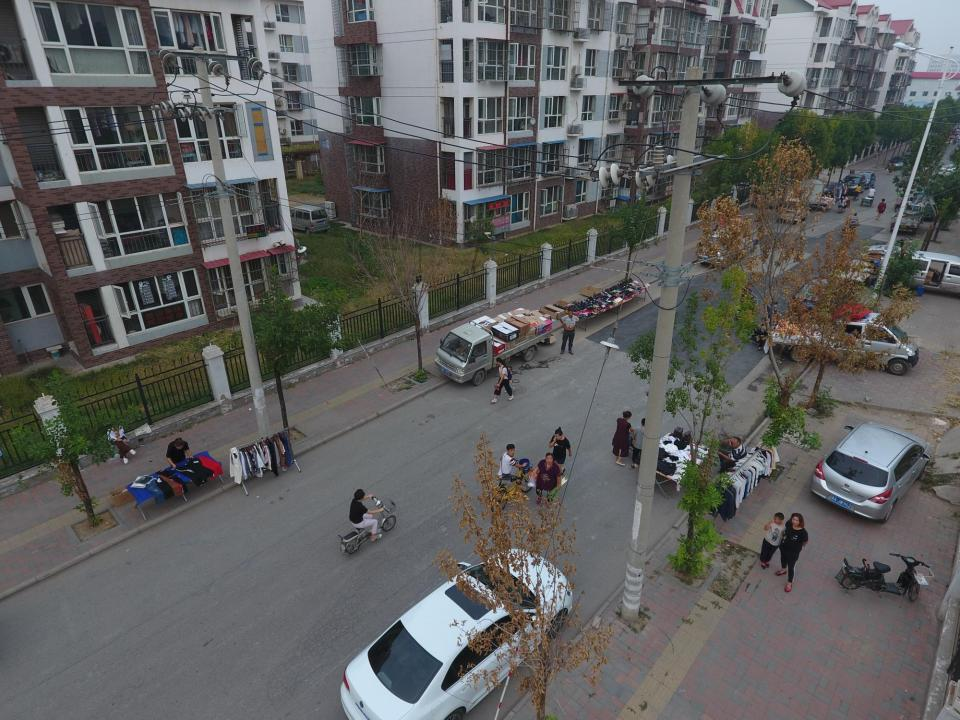car: (337, 548, 570, 720), (815, 422, 930, 523), (840, 171, 864, 194), (856, 169, 876, 190), (888, 153, 908, 171)
truck: (778, 310, 922, 373), (436, 312, 554, 378), (893, 187, 925, 234)
van: (893, 247, 960, 295), (763, 176, 824, 206), (702, 226, 744, 264), (778, 192, 807, 223)
